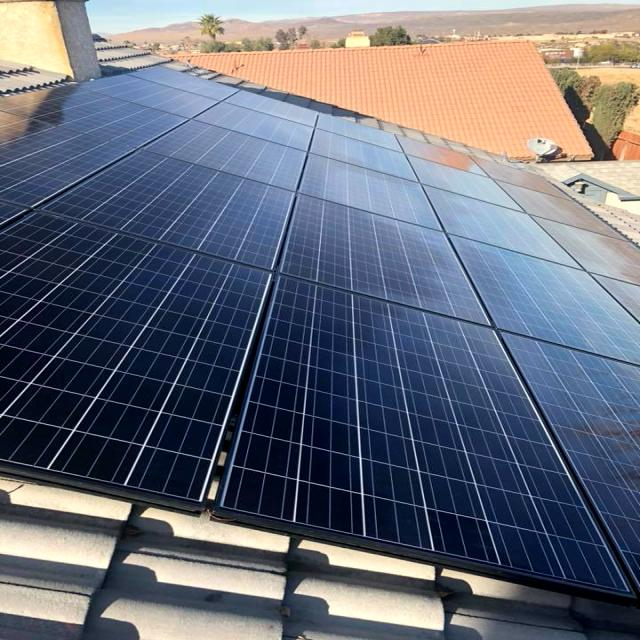crack: (245, 262, 616, 612), (20, 126, 365, 308), (258, 166, 530, 322), (121, 88, 358, 223), (443, 228, 640, 390), (172, 78, 366, 180)
